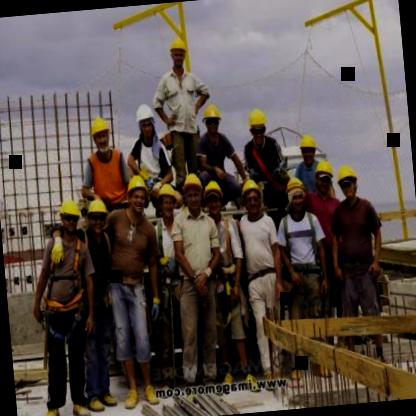helmet: (86, 112, 116, 157), (284, 173, 310, 220), (55, 197, 85, 237), (131, 99, 158, 142), (124, 174, 152, 215), (166, 28, 190, 74), (84, 197, 110, 239), (180, 170, 204, 215), (336, 166, 364, 204), (154, 178, 178, 222), (202, 177, 226, 220), (246, 105, 268, 150), (240, 178, 264, 218), (312, 158, 336, 192), (202, 104, 222, 142), (298, 132, 318, 168)
